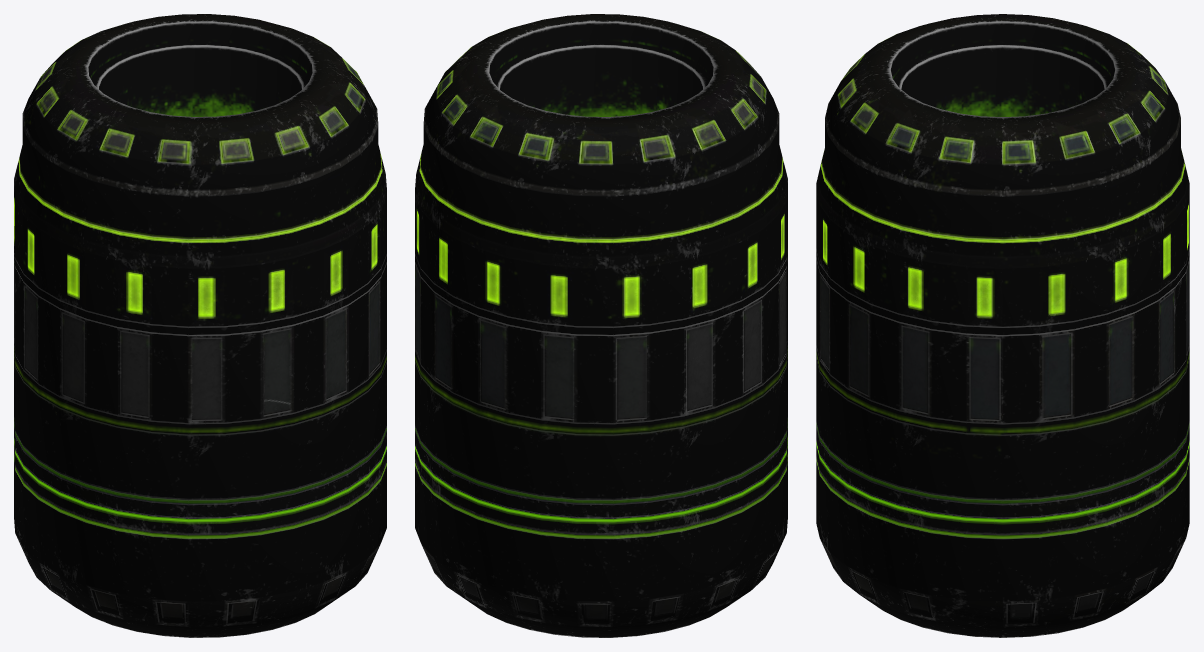
File: cilinder.fbx
3 renders of one model, left to right at view 1: azimuth 30°, elevation 25°; view 2: azimuth 150°, elevation 25°; view 3: azimuth 270°, elevation 25°, orthographic.
Parts seen in each view (by area): view 1: SM_ContainerS_JFG_1_Green; view 2: SM_ContainerS_JFG_1_Green; view 3: SM_ContainerS_JFG_1_Green.
Part boxes in pixels (x1=…): SM_ContainerS_JFG_1_Green: x1=14, y1=14, x2=386, y2=637; SM_ContainerS_JFG_1_Green: x1=415, y1=14, x2=787, y2=637; SM_ContainerS_JFG_1_Green: x1=816, y1=14, x2=1189, y2=637.
Size of the model in its own units: 73.18 by 110 by 73.18.
